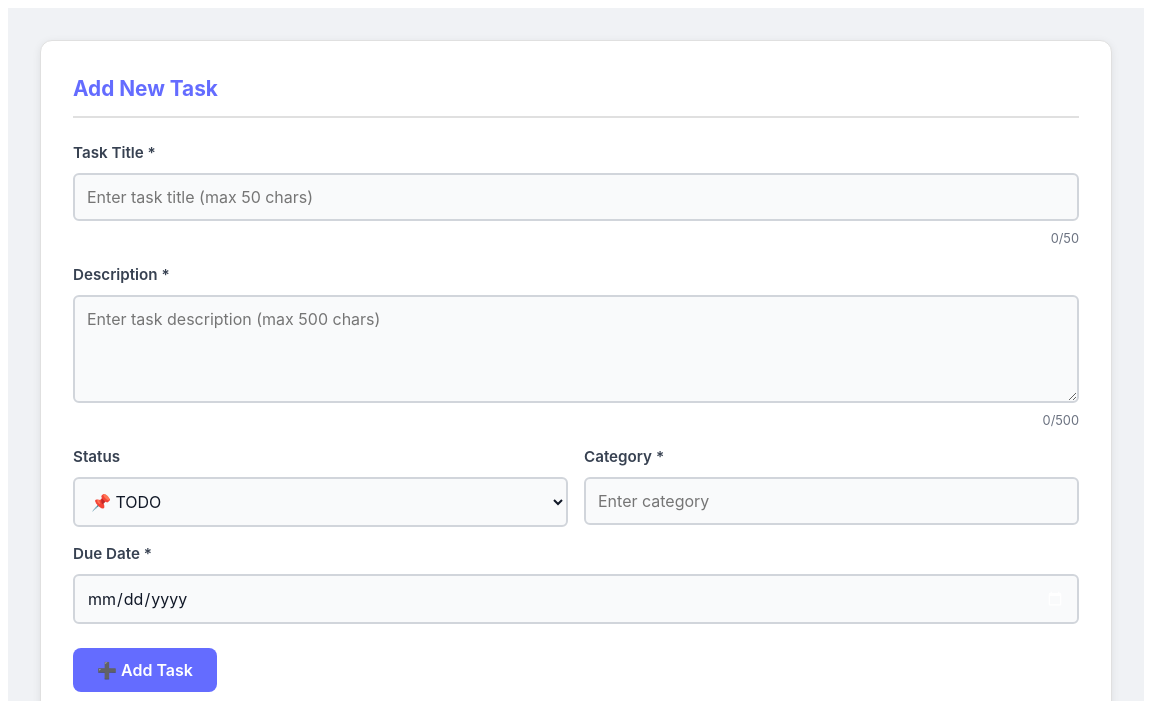
Test case: TaskForm – create mode › shows validation error when due date is empty
Type "Title" into the field labelled "Task Title *" at [576, 197], box [73, 173, 1079, 221]
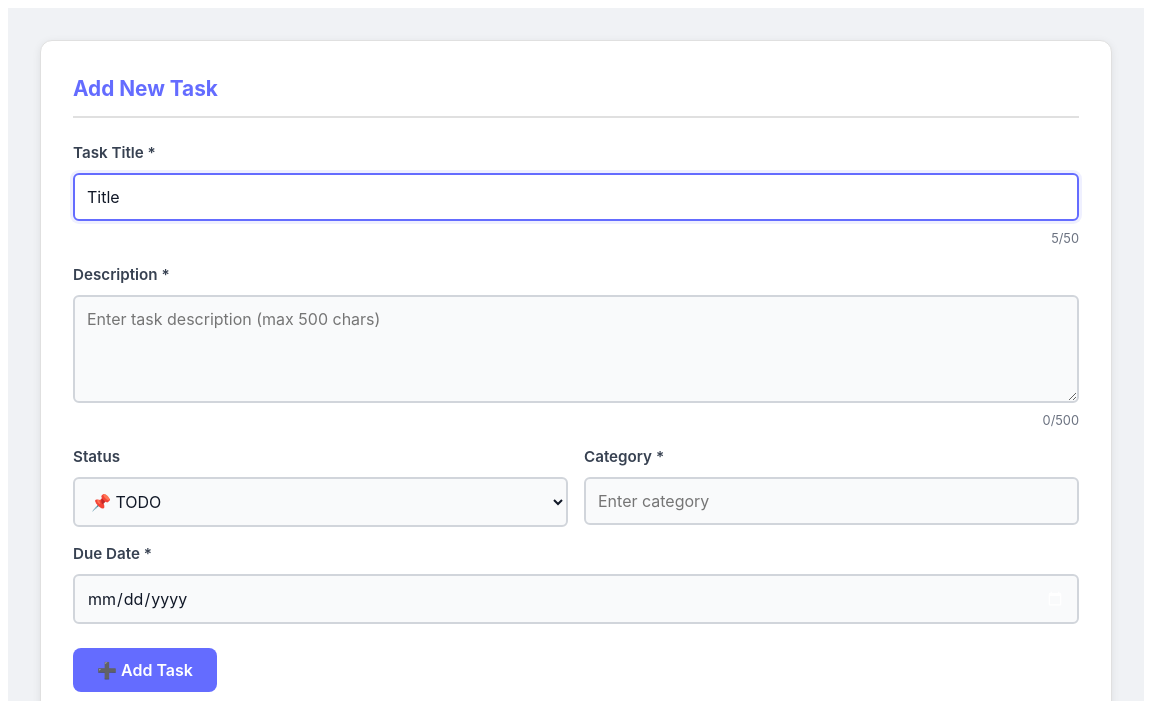
Type "Desc" into the text box labelled "Description *" at [576, 349], box [73, 295, 1079, 403]
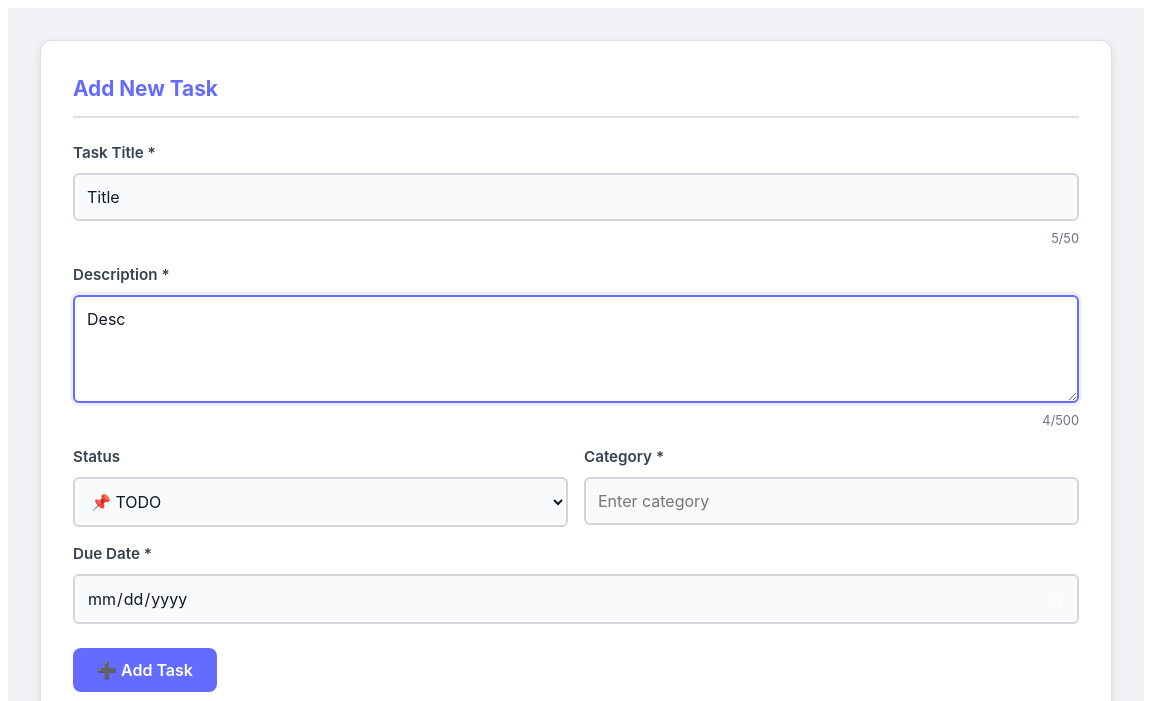
Type "Work" into the field labelled "Category *" at [832, 501], box [584, 477, 1079, 525]
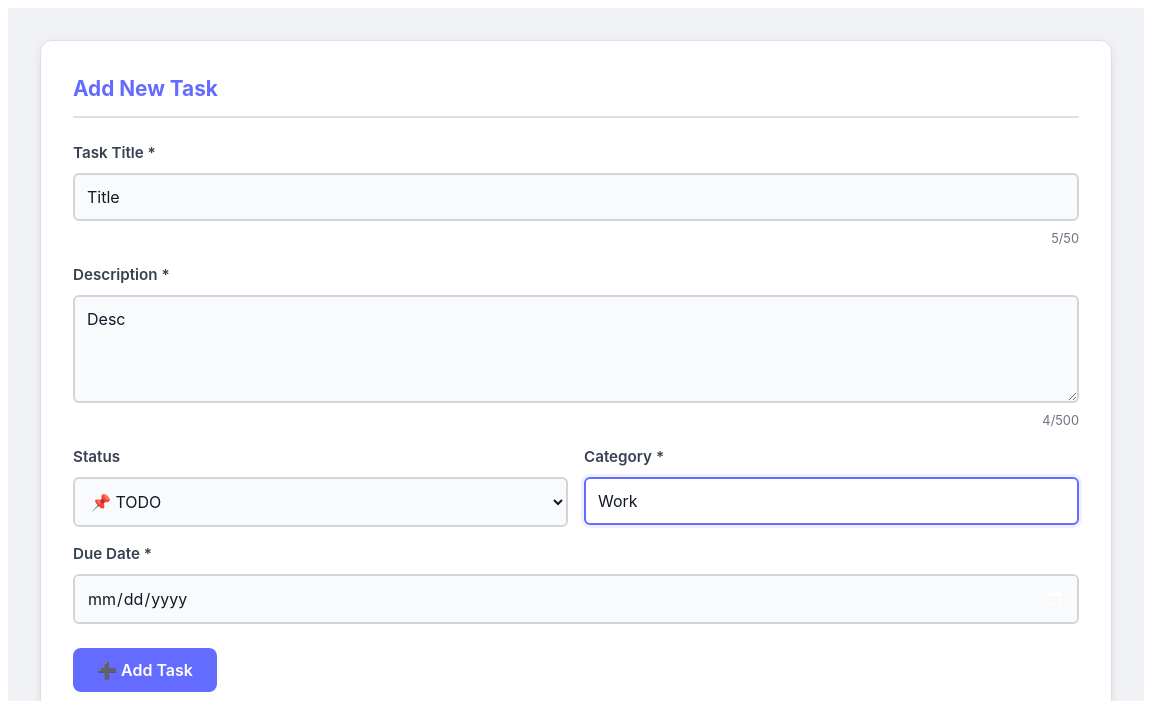
Submit the form
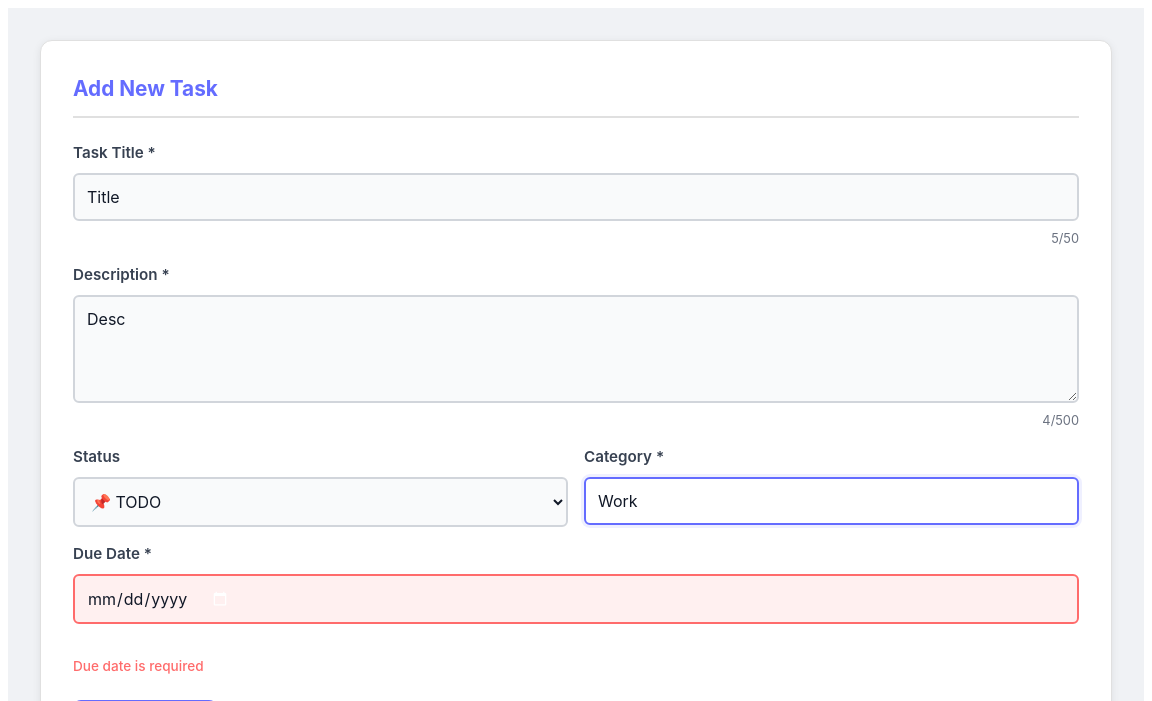
Now the text "Due date is required" is shown, box [73, 658, 204, 674]
